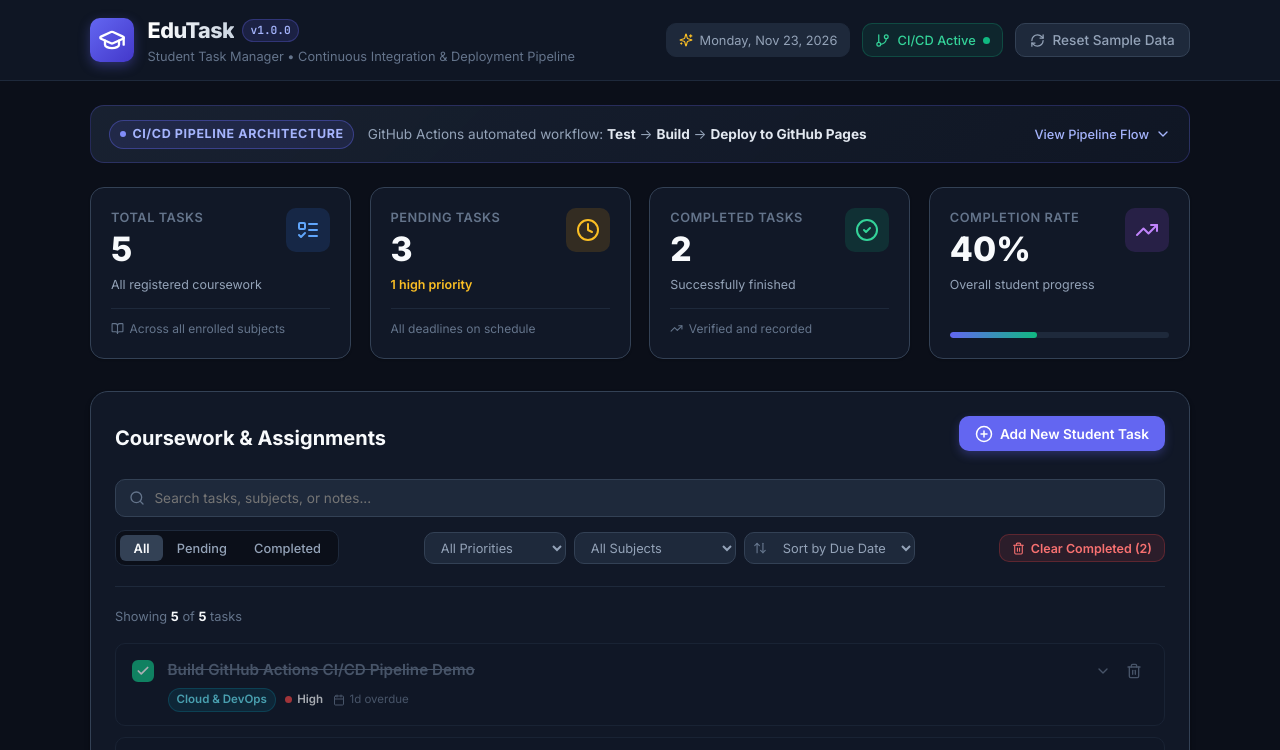
it: Student Task Manager - App & CI/CD Automated Tests › allows user to open the form and add a new task
This screenshot has width=1280, height=750.
Later steps or results of the test are not shown.
Click trigger to open form
Click the button "Add New Student Task": (1062, 434) [959, 416, 1165, 451]
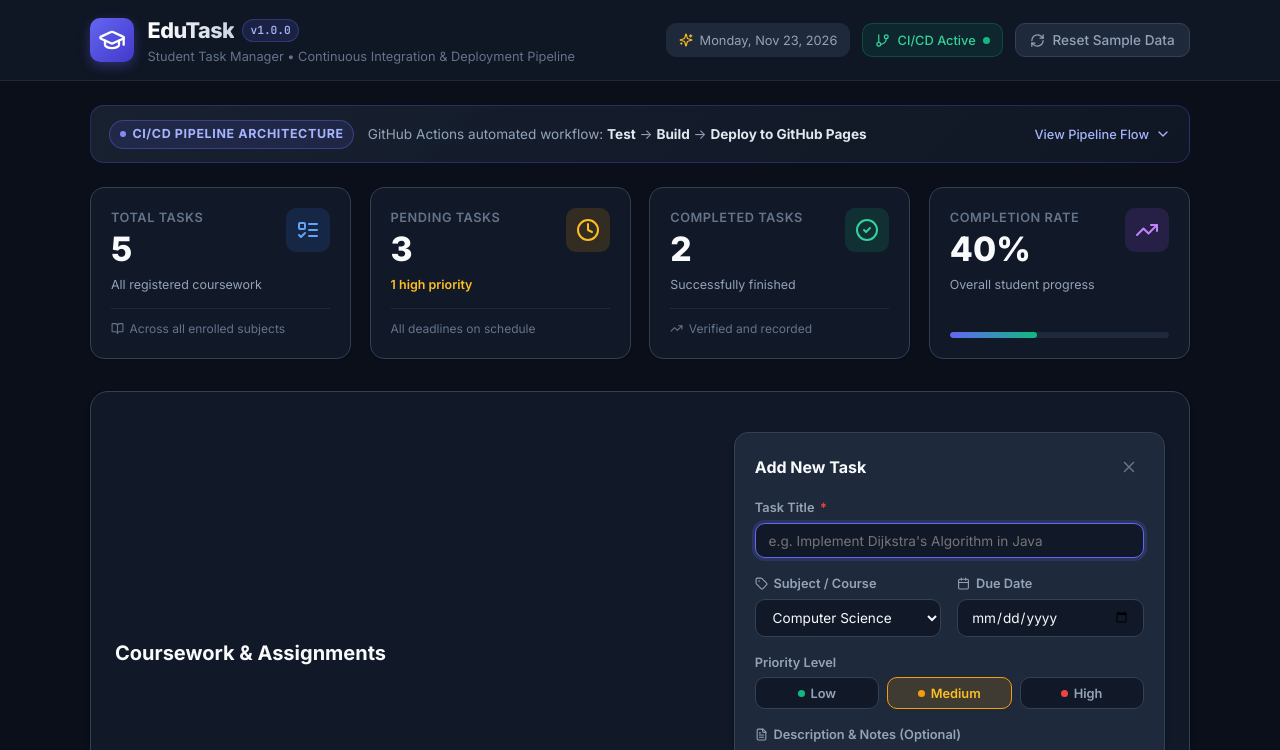
Expected: the heading "Add New Task" is shown, [755, 455, 866, 479]
